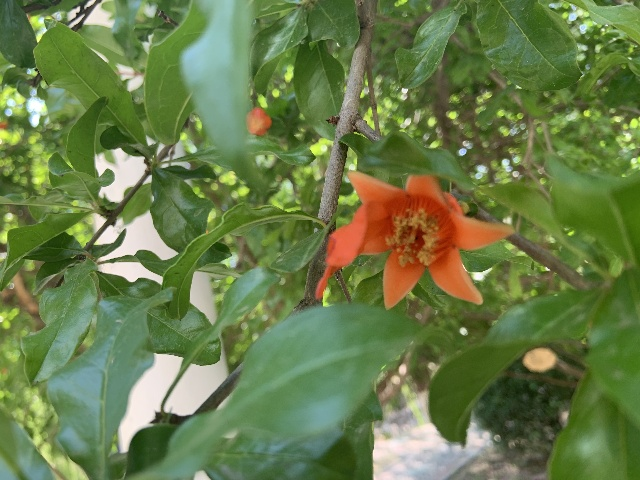bud: (246, 106, 271, 135)
flower: (314, 170, 514, 310)
